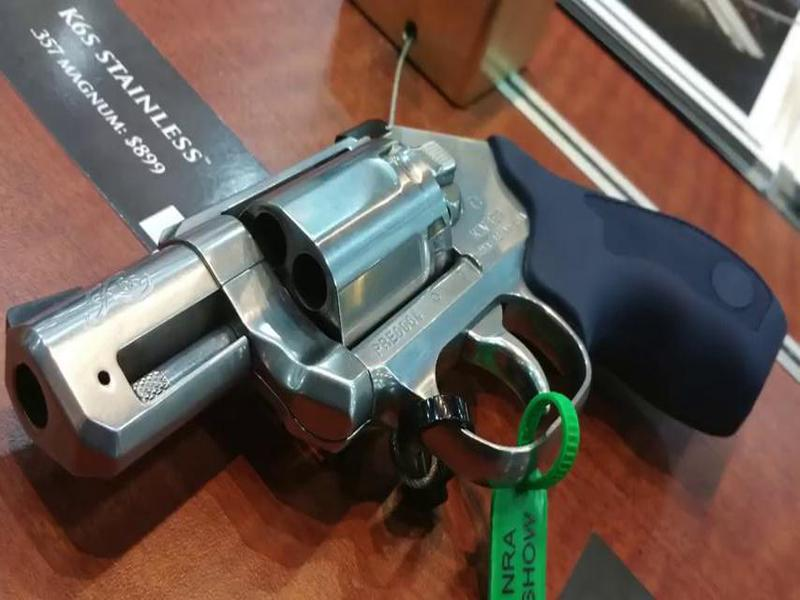Revolver: (28, 106, 776, 518)
